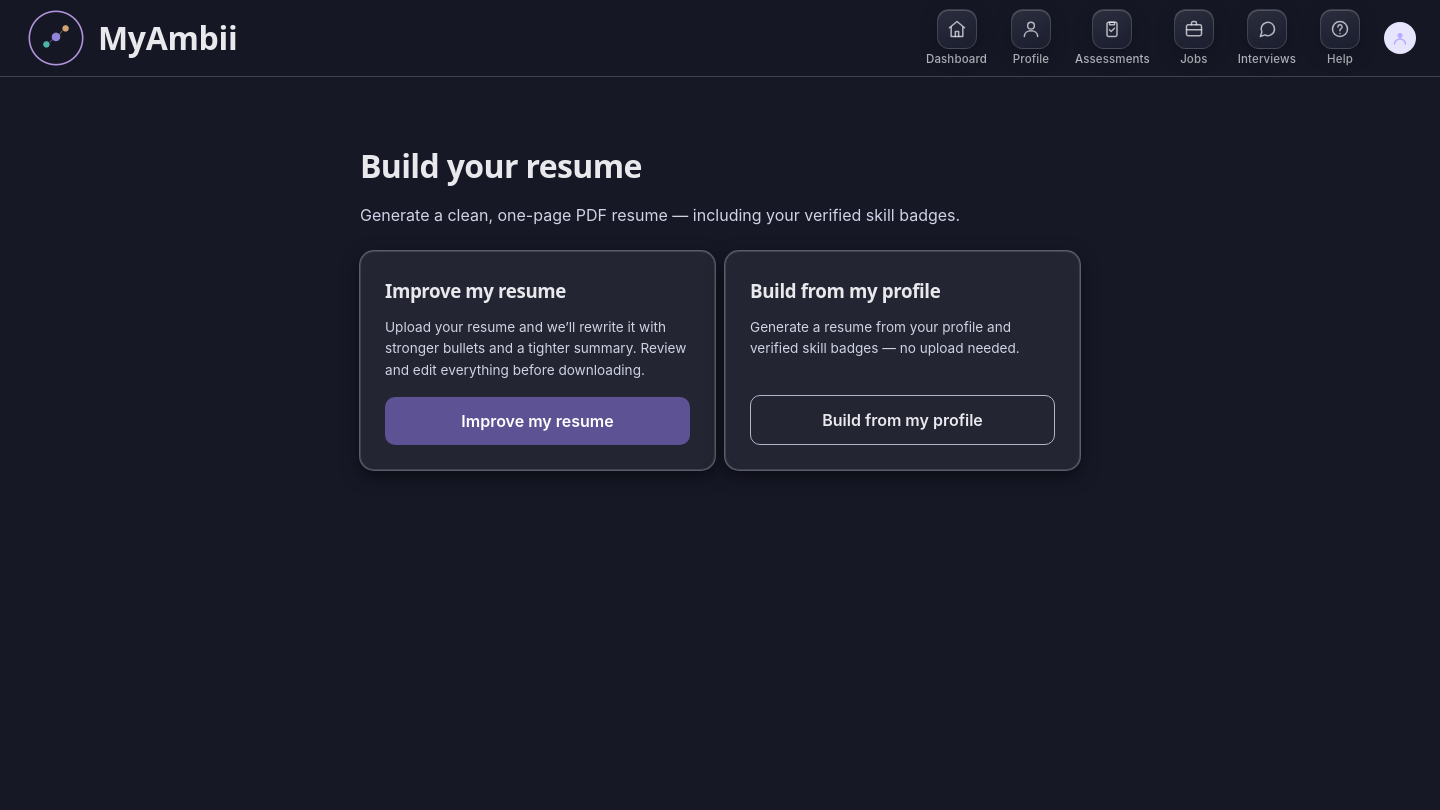
Resume builder — portfolio skill selector › the count and the disabled state track RESUME_SKILLS_MAX, not a literal
Click the button "Build from my profile" at (902, 420), box left=750, top=395, right=1055, bottom=445
(page scrolled)
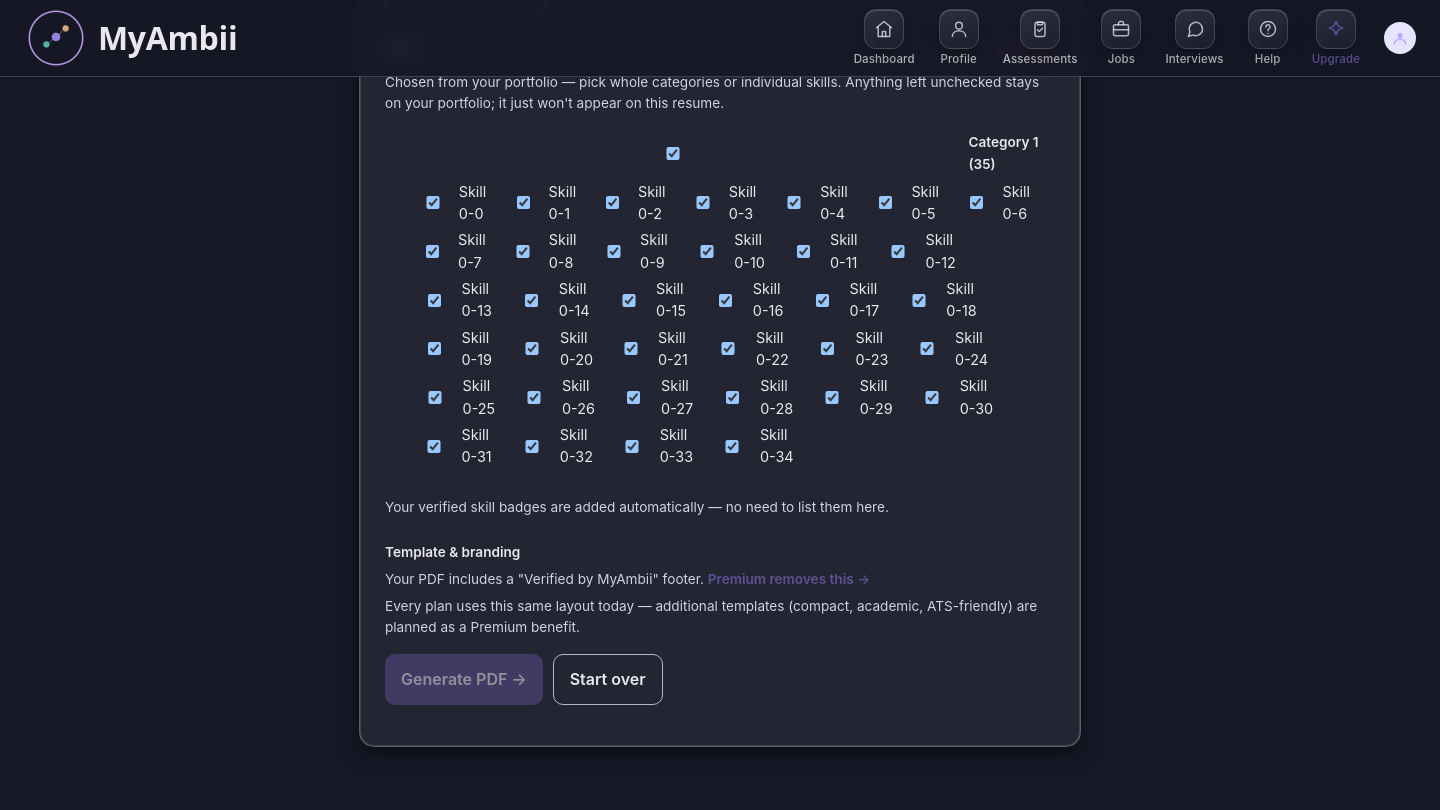
expect the button "Generate PDF →" is disabled: met, box left=385, top=654, right=543, bottom=705
